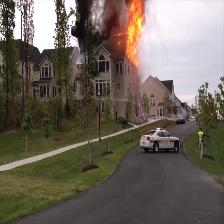fire: (124, 0, 147, 62)
smoke: (75, 1, 119, 49)
